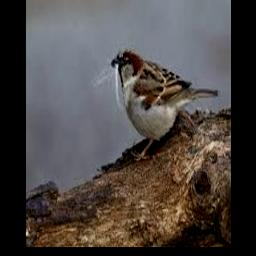Sparrow: (111, 47, 219, 160)
